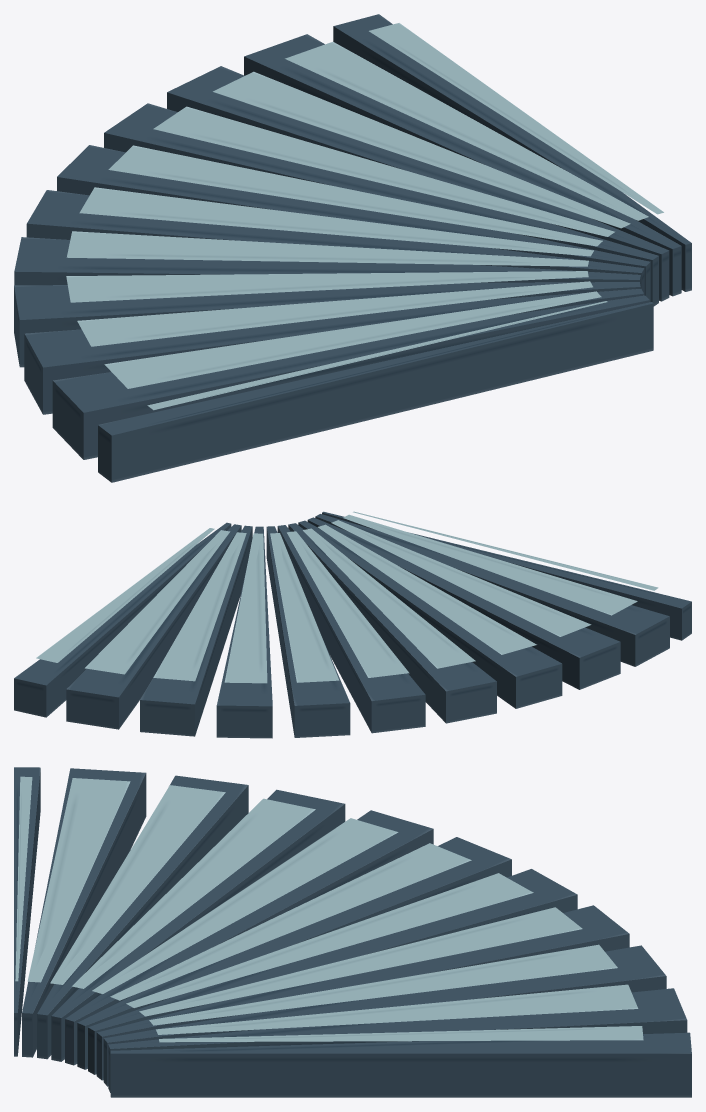
Rendered from sc_tread_curve_right_18.obj.
3 views of the same model, one above another, from view 1: azimuth 30°, elevation 25°; view 2: azimuth 150°, elevation 25°; view 3: azimuth 270°, elevation 25° (orthographic). The views are drawn at different scales.
Bounding box in the file's own units: 17.5 × 1.56 × 17.5.
Materials: 1 (1 with a texture image).
